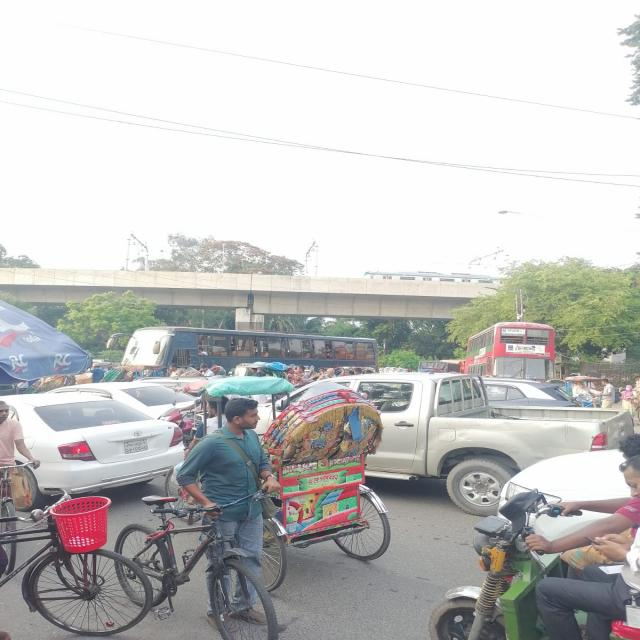person: (177, 398, 280, 632)
